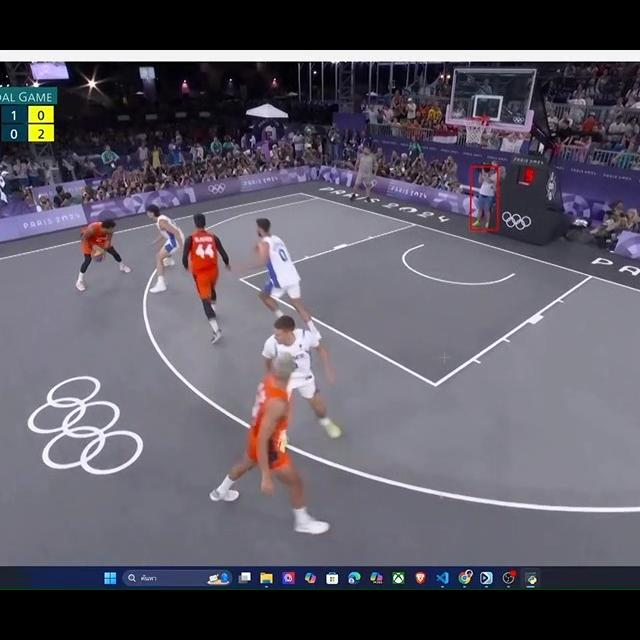basketball: (92, 250, 104, 265)
hoop: (461, 115, 488, 144)
